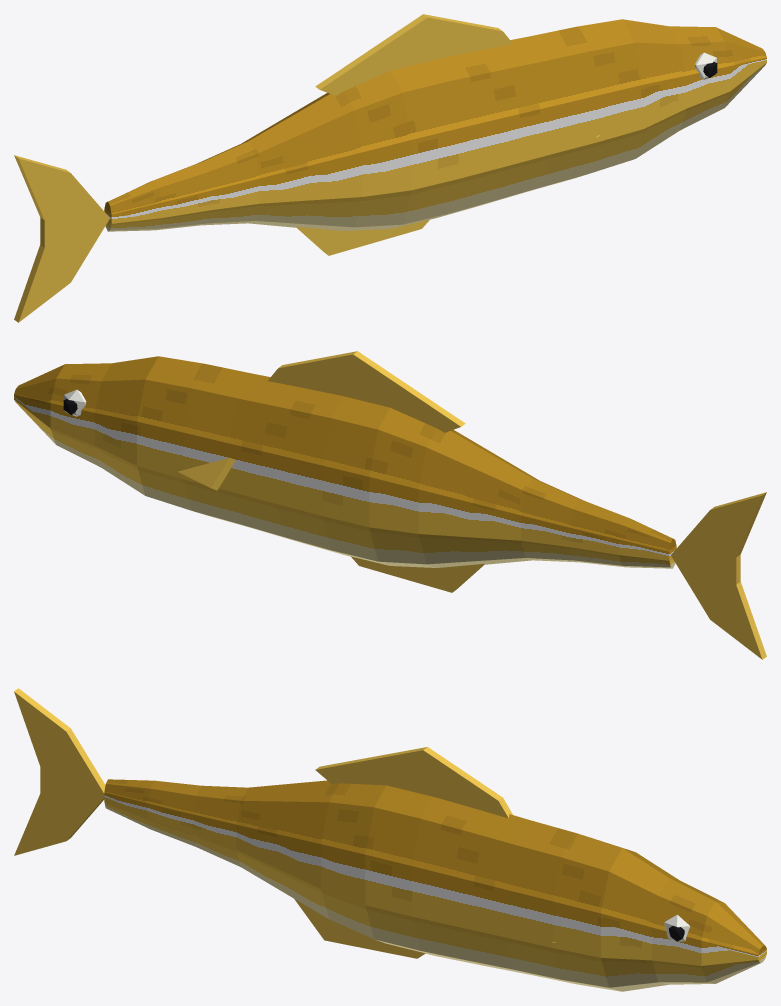
The model's file is kingtide.glb.
3 renders of one model, top to bottom at view 1: azimuth 30°, elevation 25°; view 2: azimuth 150°, elevation 25°; view 3: azimuth 330°, elevation 25°, orthographic.
Visible parts, largest first — view 1: fish_kingtide; view 2: fish_kingtide; view 3: fish_kingtide.
Part boxes in pixels (x1,y1,x2,y2): fish_kingtide: (14, 14, 766, 322); fish_kingtide: (14, 351, 766, 659); fish_kingtide: (14, 688, 766, 991).
Size of the model in its own units: 1.14 by 0.3129 by 0.1501.
Materials: 4 (1 with a texture image).
